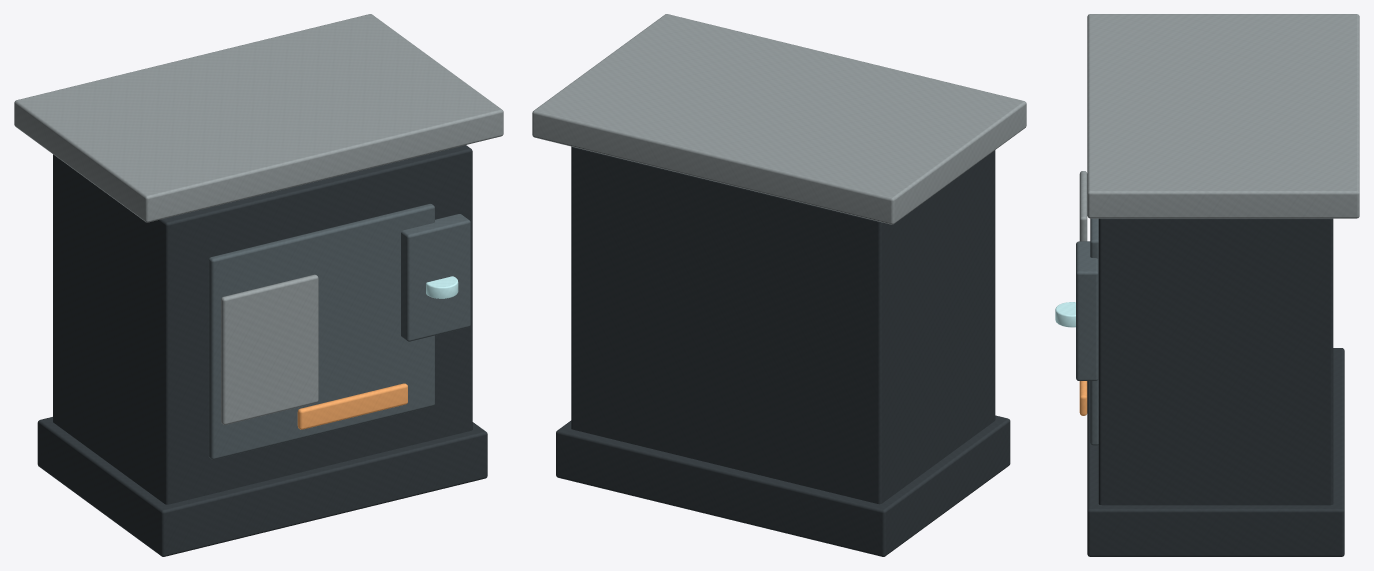
The model's file is PortableGenerator.glb.
The picture shows the model from 3 angles, left to right: view 1: azimuth 30°, elevation 25°; view 2: azimuth 150°, elevation 25°; view 3: azimuth 270°, elevation 25°; orthographic projection. The views are drawn at different scales.
Parts seen in each view (by area): view 1: PortableGenerator_Mesh; view 2: PortableGenerator_Mesh; view 3: PortableGenerator_Mesh.
Part boxes in pixels (<box>): PortableGenerator_Mesh: <box>14,14,503,556</box>; PortableGenerator_Mesh: <box>532,14,1026,556</box>; PortableGenerator_Mesh: <box>1055,14,1359,556</box>.
Size of the model in its own units: 1.12 by 1.09 by 0.805.
5 materials, 5 textured.
